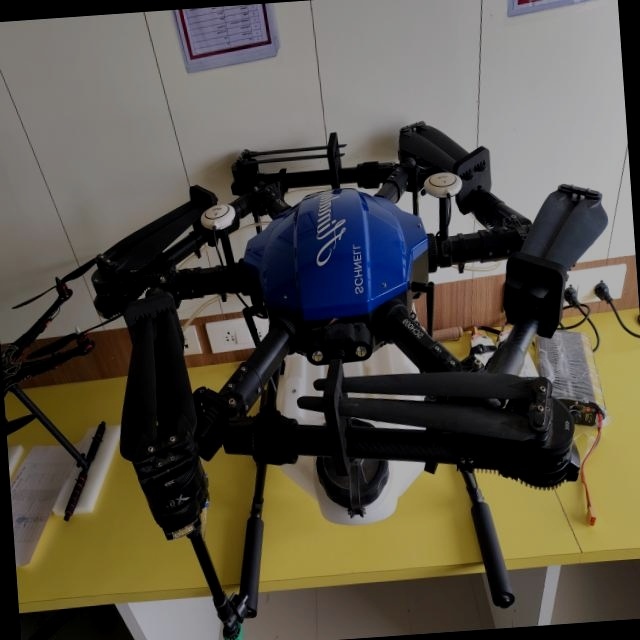agriculturedrone: (37, 97, 640, 640)
